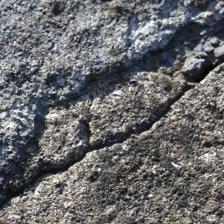Crack: (135, 110, 224, 224), (51, 57, 151, 139)
